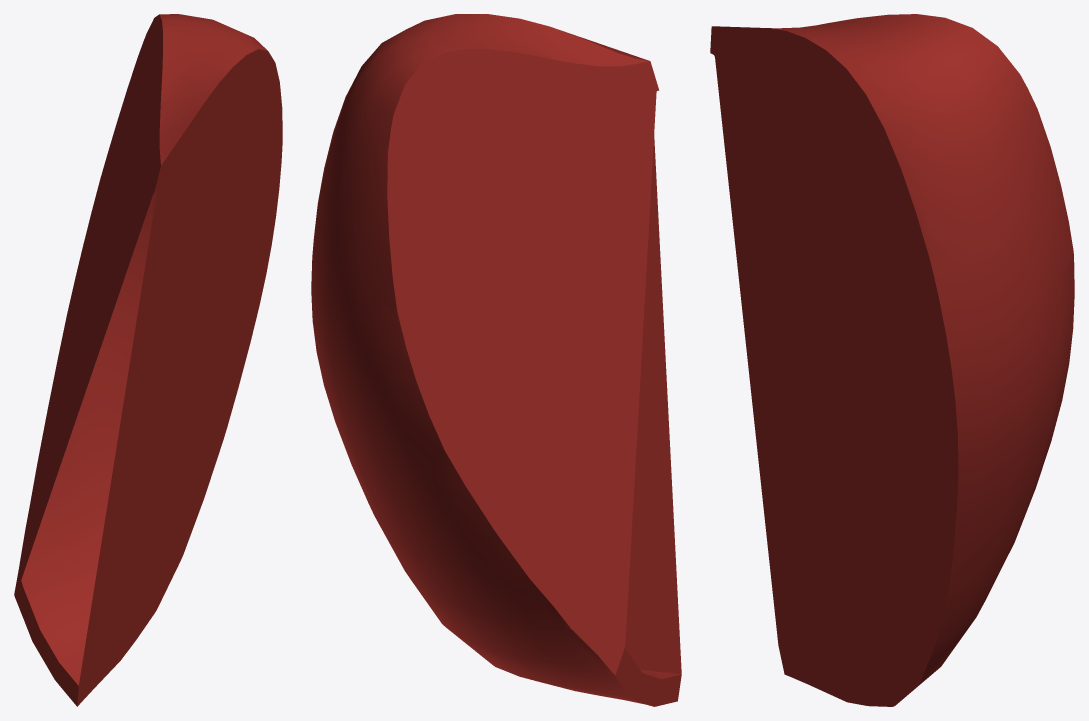
Rendered from Pepper_Slice_04.fbx.
The picture shows the model from 3 angles, left to right: view 1: azimuth 30°, elevation 25°; view 2: azimuth 150°, elevation 25°; view 3: azimuth 270°, elevation 25°; orthographic projection. The views are drawn at different scales.
Parts seen in each view (by area): view 1: Pepper; view 2: Pepper; view 3: Pepper.
Part boxes in pixels (<box>): Pepper: <box>14,14,282,706</box>; Pepper: <box>311,14,681,706</box>; Pepper: <box>710,14,1074,706</box>.
Size of the model in its own units: 1738 by 3690 by 1632.
